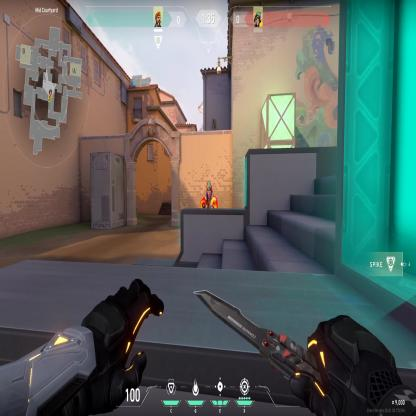enemy: (198, 178, 219, 209)
